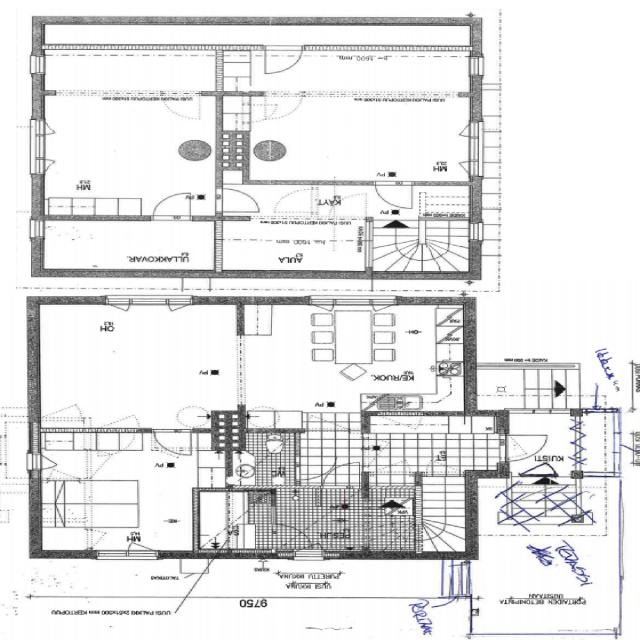door: (495, 434, 552, 462), (372, 180, 413, 212), (152, 428, 192, 459), (153, 190, 192, 220), (214, 188, 259, 212), (294, 456, 336, 479), (523, 451, 559, 476), (270, 525, 310, 547), (324, 464, 360, 488)
